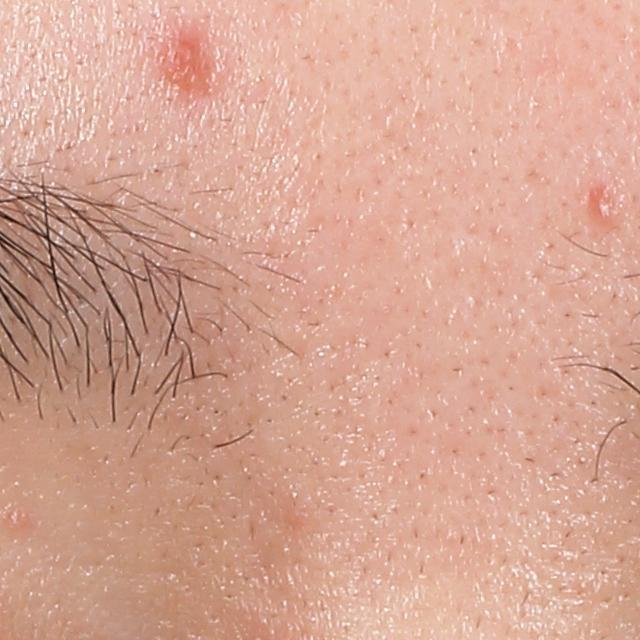papule: (151, 16, 214, 96), (593, 184, 628, 226)
